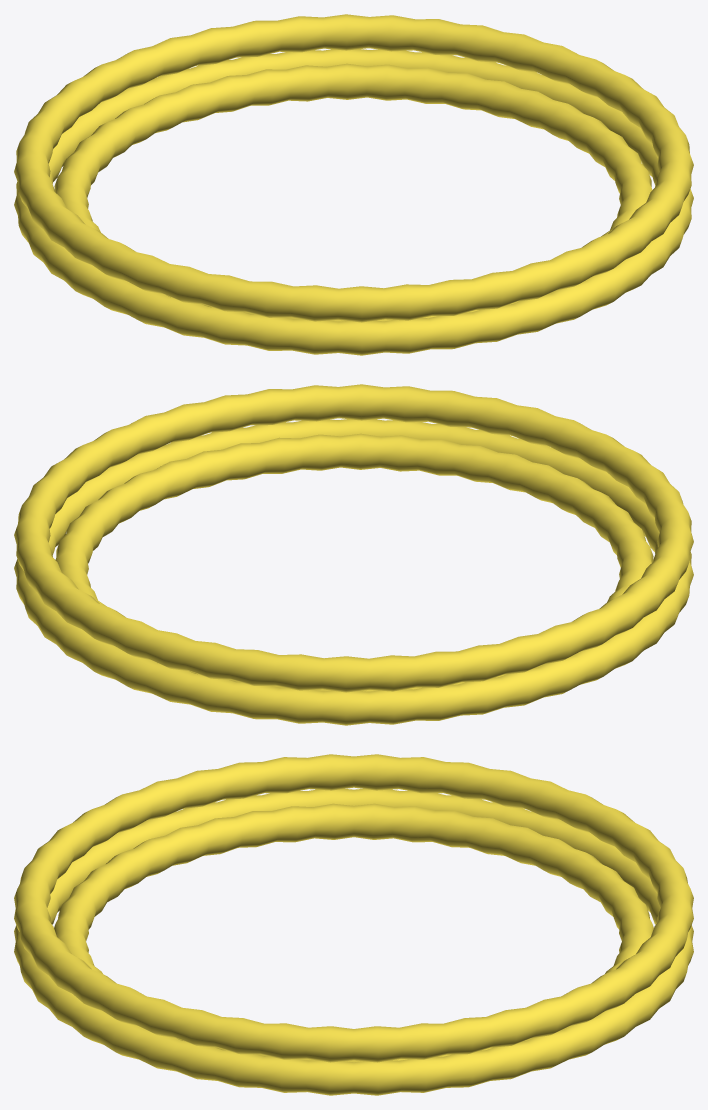
The model's file is ELE-ELD-001.glb.
The picture shows the model from 3 angles, top to bottom: view 1: azimuth 30°, elevation 25°; view 2: azimuth 150°, elevation 25°; view 3: azimuth 270°, elevation 25°; orthographic projection.
Visible parts, largest first — view 1: ELE-ELD-001_volta2, ELE-ELD-001_volta0, ELE-ELD-001_volta1; view 2: ELE-ELD-001_volta2, ELE-ELD-001_volta0, ELE-ELD-001_volta1; view 3: ELE-ELD-001_volta2, ELE-ELD-001_volta0, ELE-ELD-001_volta1.
Part boxes in pixels (box(x1,y1,x2,y2)): ELE-ELD-001_volta2: box(14, 14, 693, 322); ELE-ELD-001_volta0: box(14, 49, 693, 355); ELE-ELD-001_volta1: box(54, 63, 652, 321); ELE-ELD-001_volta2: box(14, 384, 693, 692); ELE-ELD-001_volta0: box(14, 419, 693, 725); ELE-ELD-001_volta1: box(55, 433, 653, 691); ELE-ELD-001_volta2: box(14, 754, 693, 1062); ELE-ELD-001_volta0: box(14, 789, 693, 1095); ELE-ELD-001_volta1: box(54, 803, 653, 1062).
Bounding box in the file's own units: 0.4638 × 0.0488 × 0.4638.
